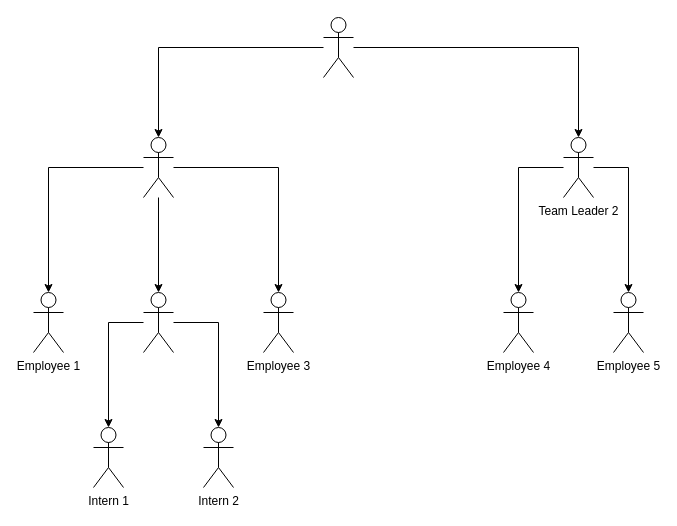
Image size: 677x526. Some labels were removed from this diagram. The shapes that lost their labels are listed below. From the top down, each one's centre as x and y in pixels, then its label:
(x=338, y=47): Director
(x=158, y=167): Team Leader 1
(x=158, y=322): Employee 2
